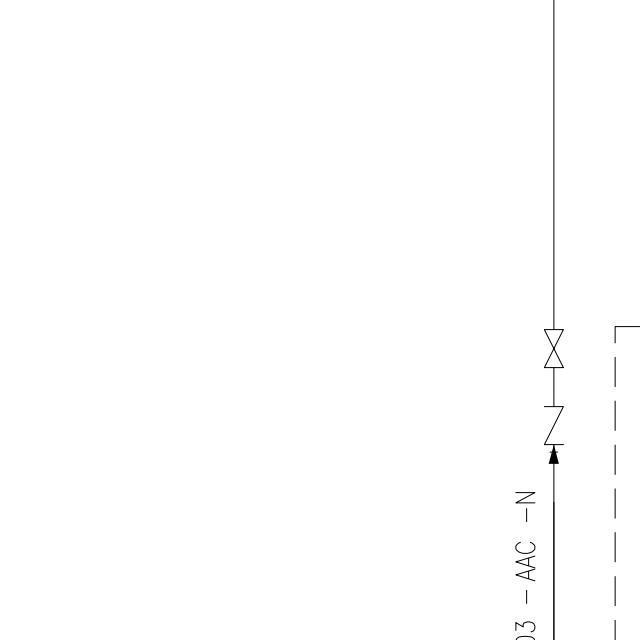GV: (542, 321, 567, 374)
